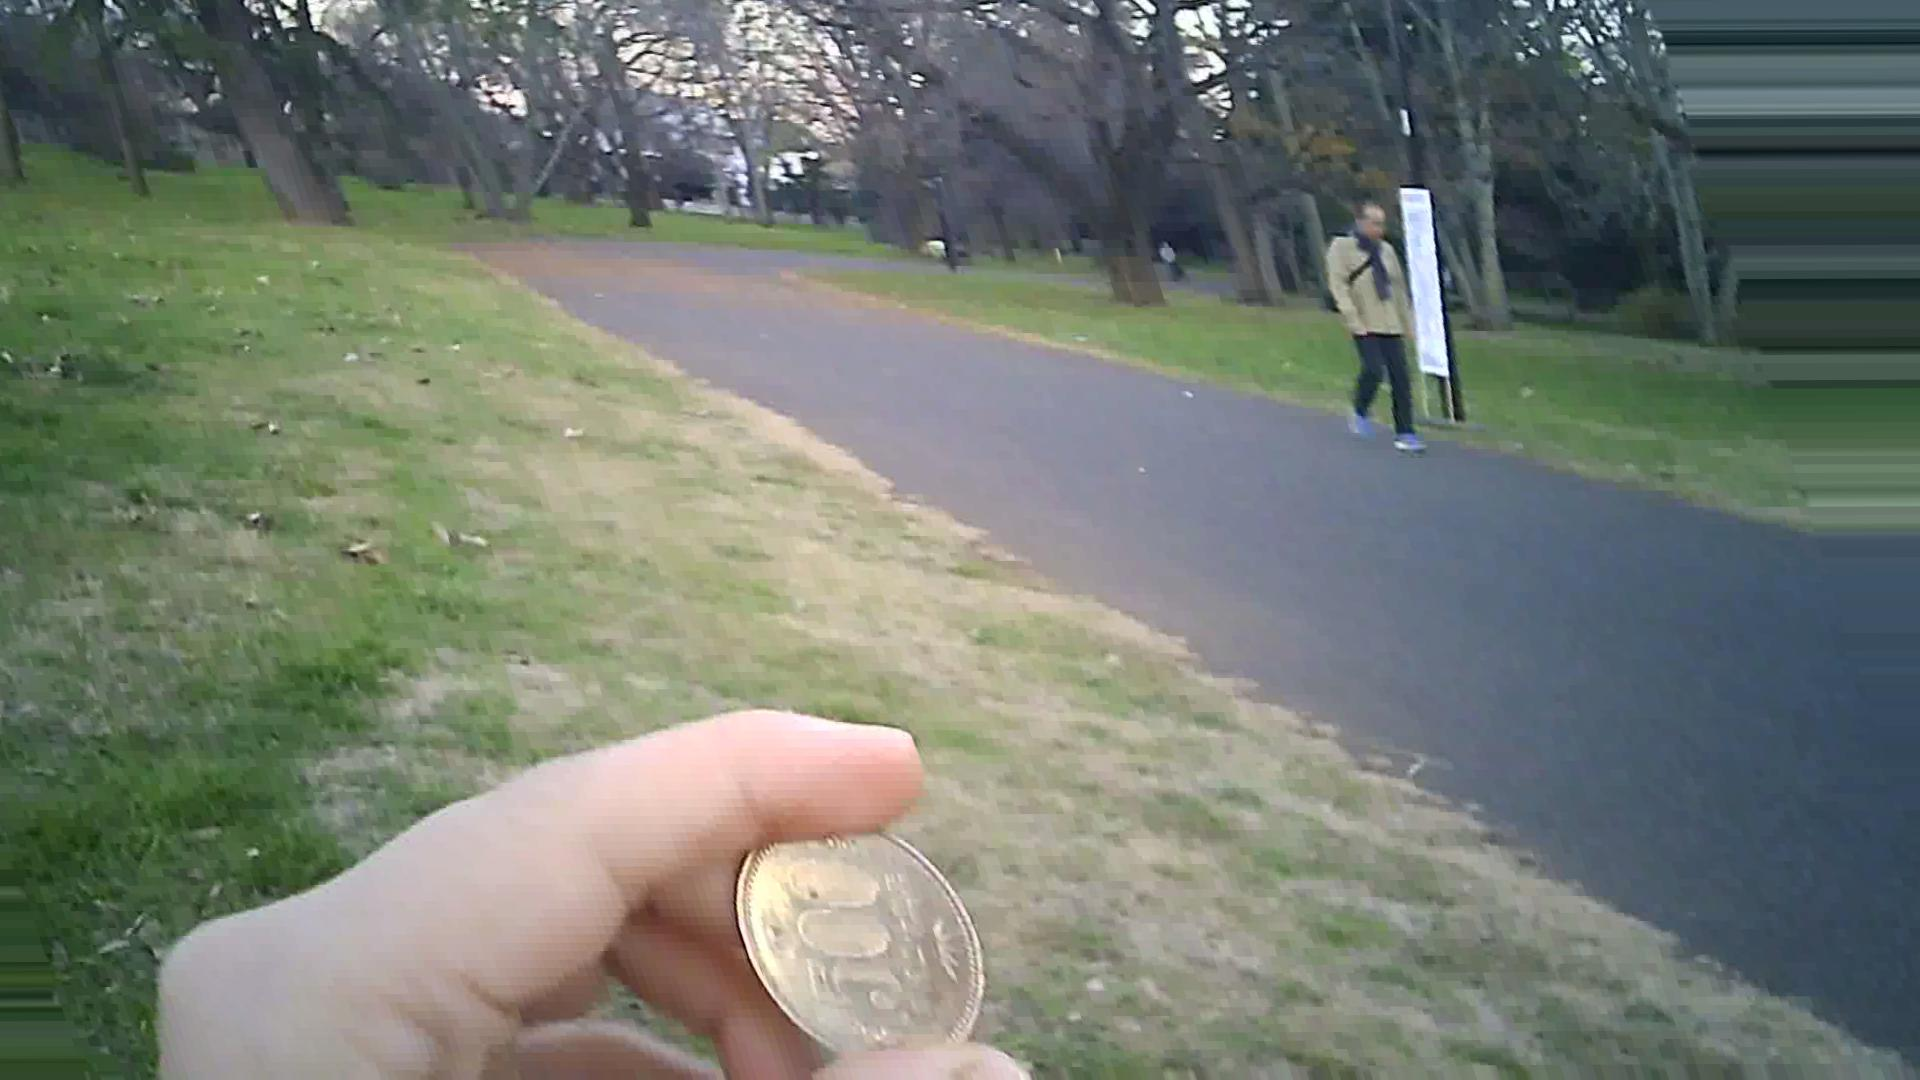500 Yen: (719, 822, 1007, 1077)
